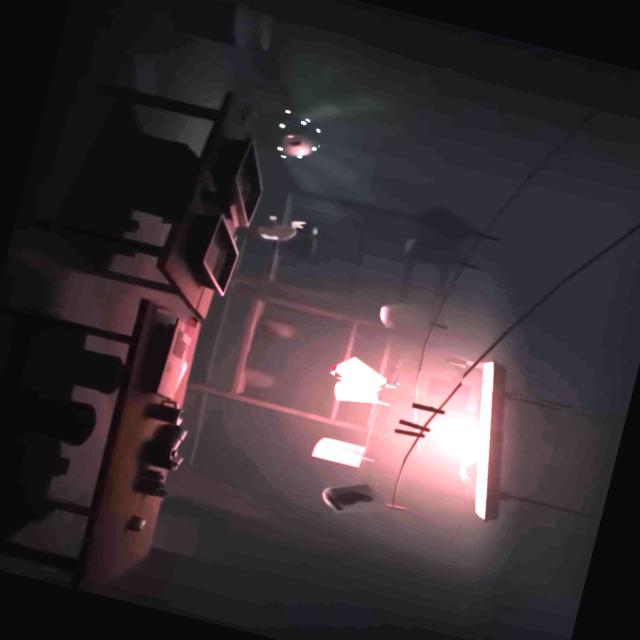boy: (230, 204, 318, 251)
